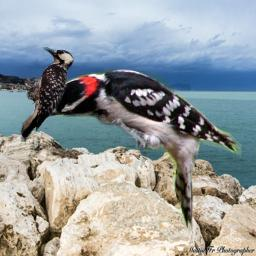Woodpecker: (40, 67, 243, 233), (18, 46, 80, 145)
